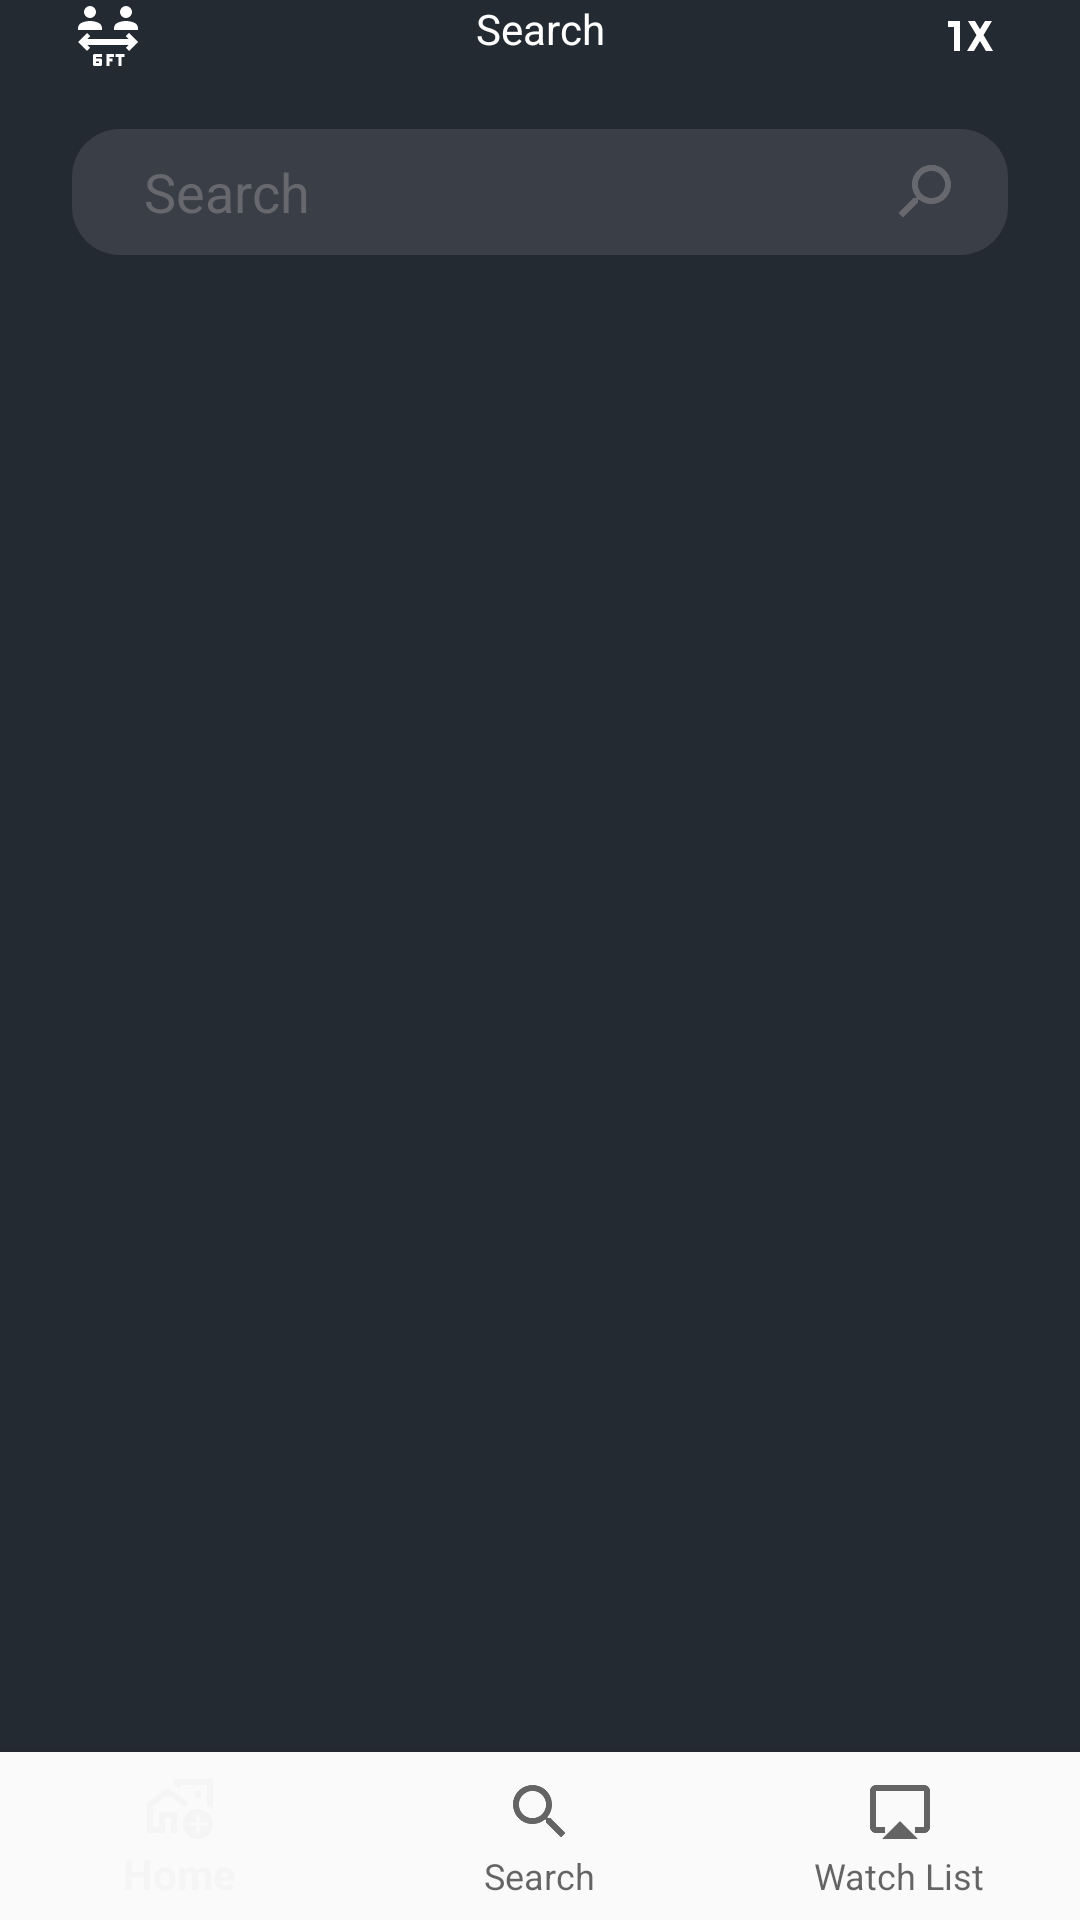

Screen size 1080px×1920px. Icon name, then its center in pixels as [x,y]:
apart: [108,36]
